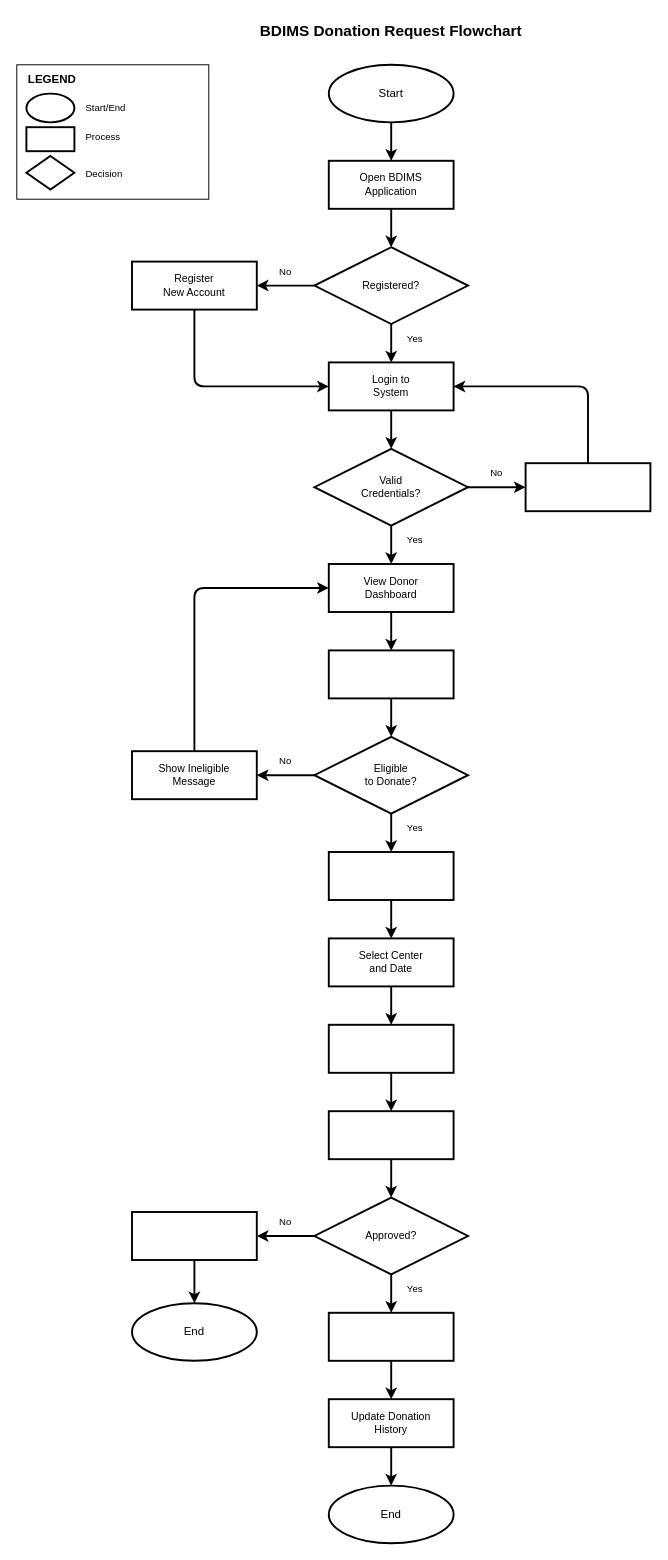
Some shapes in this 668 by 1560 pixel diagram are drawn without their labels. Each missing label, with the centre of its shape:
Admin Reviews Request: the point at 390,1135
Fill Donation Request Form: the point at 390,875
Select Schedule Donation: the point at 390,674
Send Approval Notification: the point at 390,1336
Send Rejection Notification: the point at 194,1235
Show Error Message: the point at 587,487
Submit Request: the point at 390,1048
